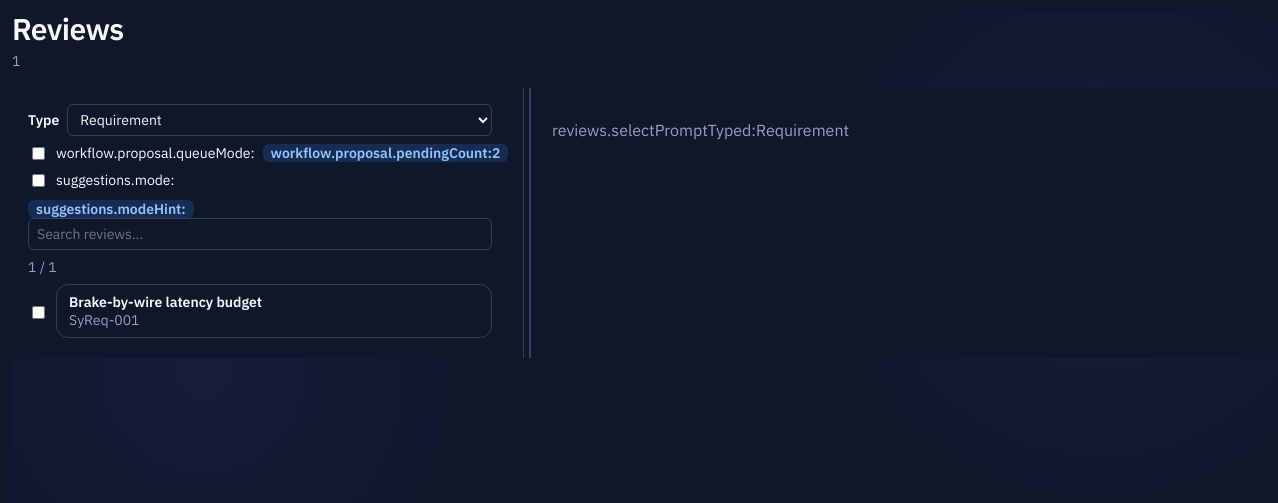
it: ReviewsView — AI proposals queue (#1089) › shows no origin line for an ordinary in_review item
Click the button with test id "review-list-item-req-rev-1". click: point(166, 302)
box: [56,284,492,338]
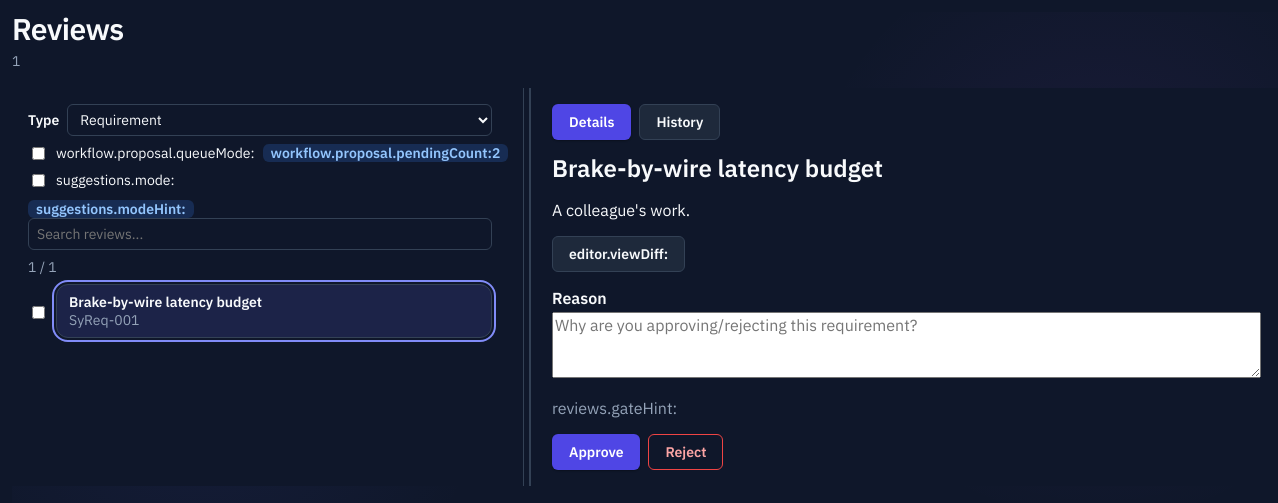
Expected: the element with test id "review-detail" is shown, [552,104,1261,470]
